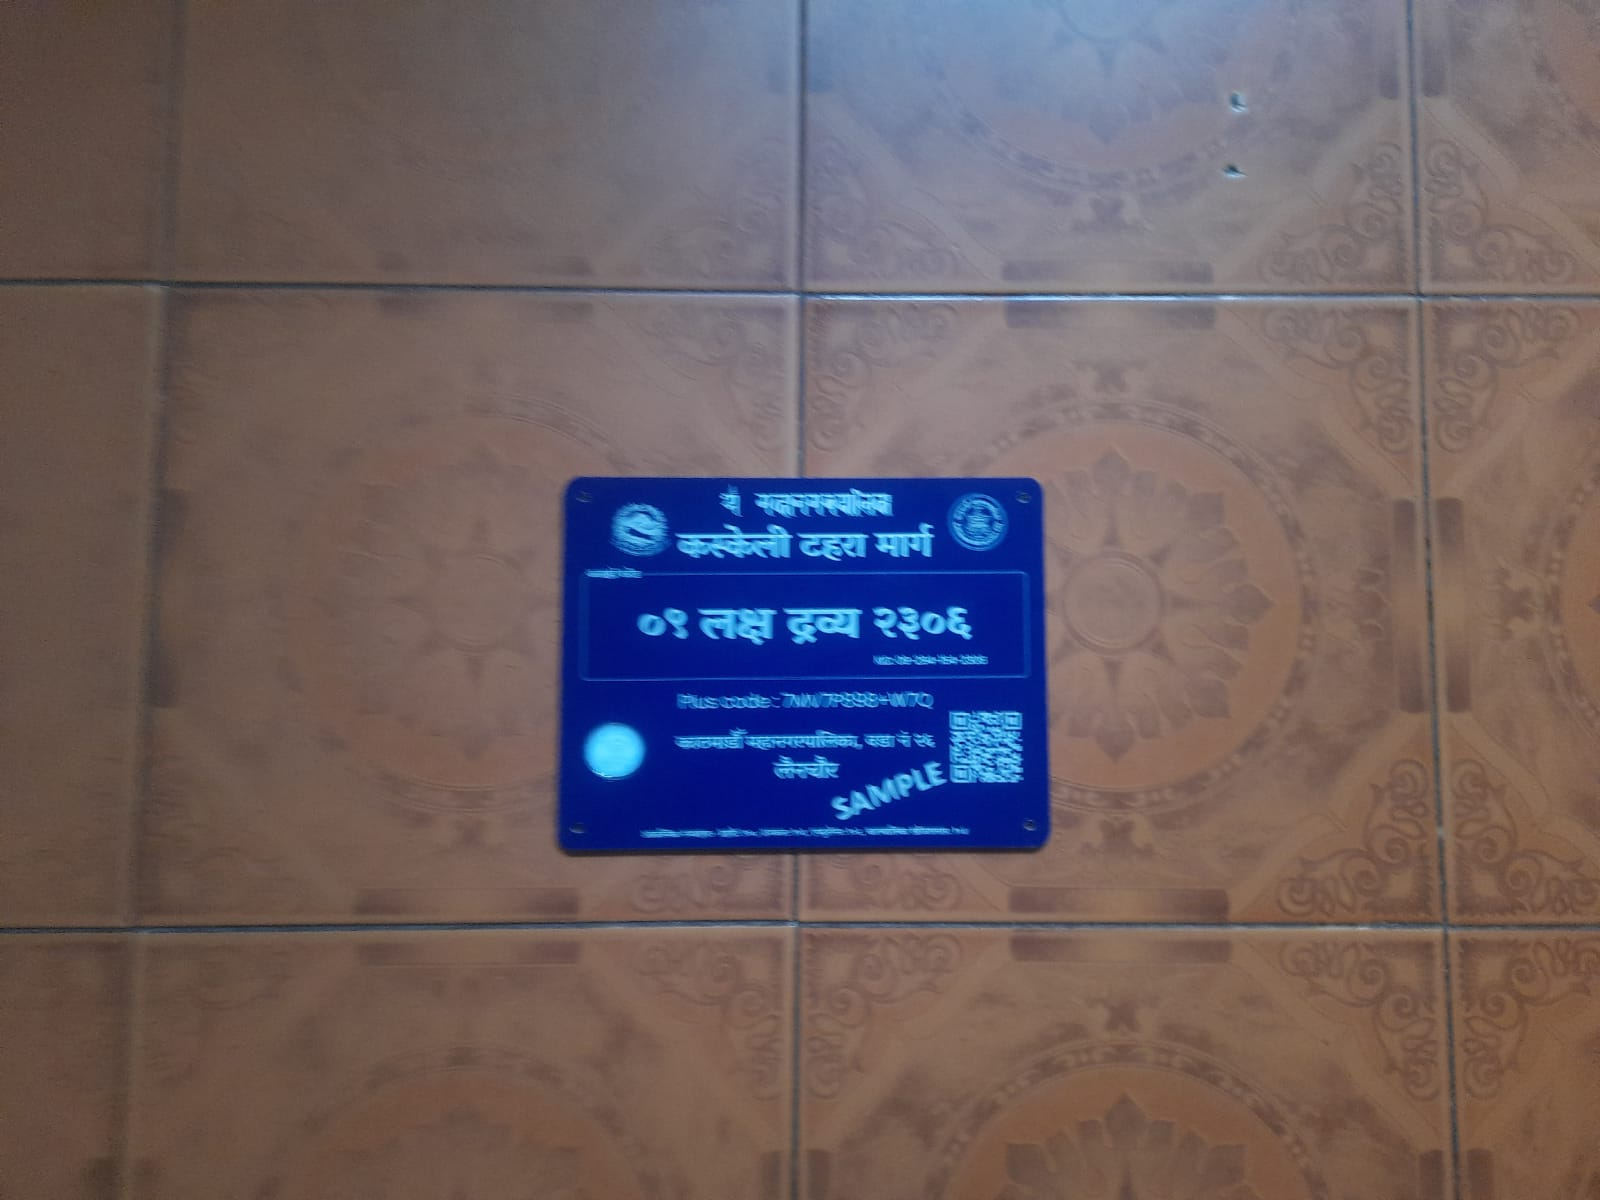Plate: (552, 465, 1058, 857)
